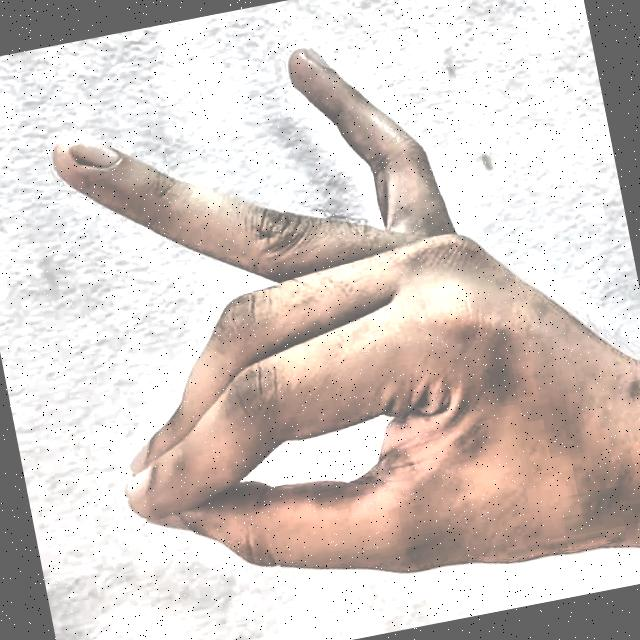Na: (13, 0, 640, 640)
